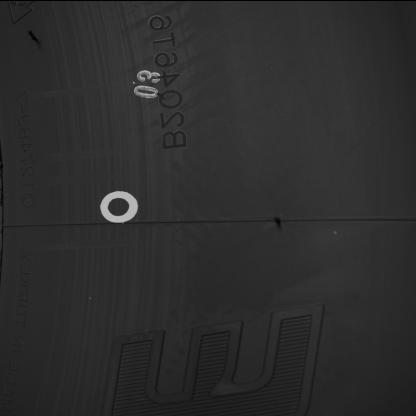ocr: (148, 13, 188, 148)
